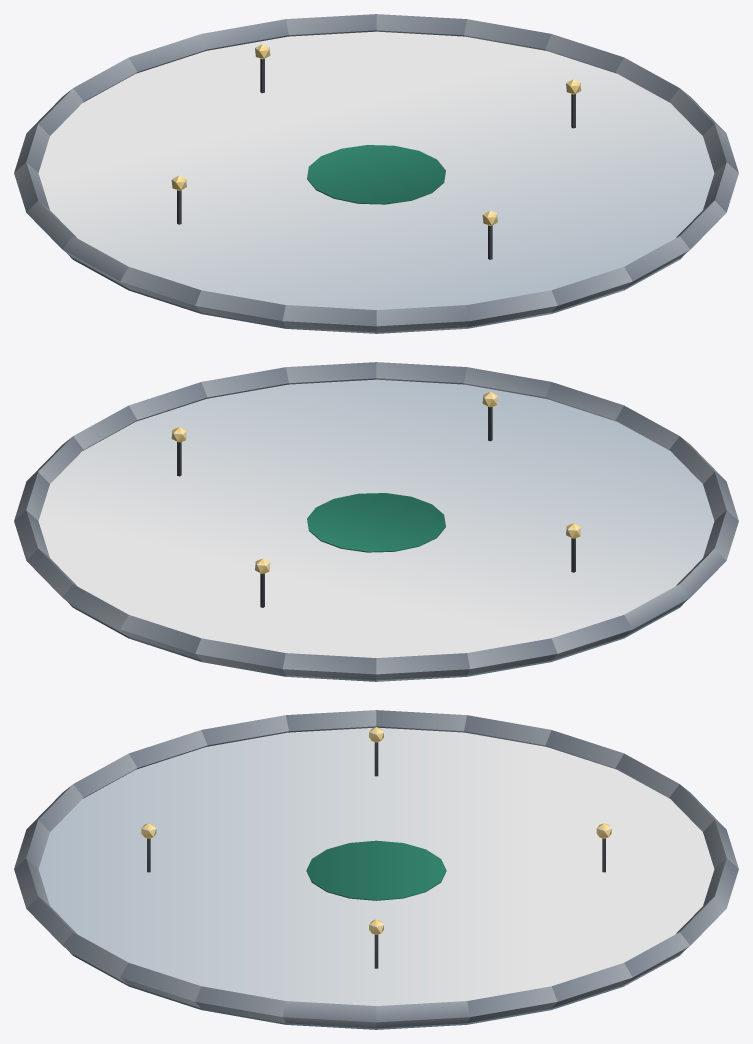
Rendered from dt_ice_rink.fbx.
3 renders of one model, top to bottom at view 1: azimuth 30°, elevation 25°; view 2: azimuth 150°, elevation 25°; view 3: azimuth 270°, elevation 25°, orthographic.
Visible parts, largest first — view 1: dt_ice_rink; view 2: dt_ice_rink; view 3: dt_ice_rink.
Part boxes in pixels (bbox=[...]): dt_ice_rink: bbox=[14, 14, 738, 333]; dt_ice_rink: bbox=[14, 362, 738, 681]; dt_ice_rink: bbox=[14, 710, 738, 1029].
Size of the model in its own units: 4000 by 357 by 4000.
